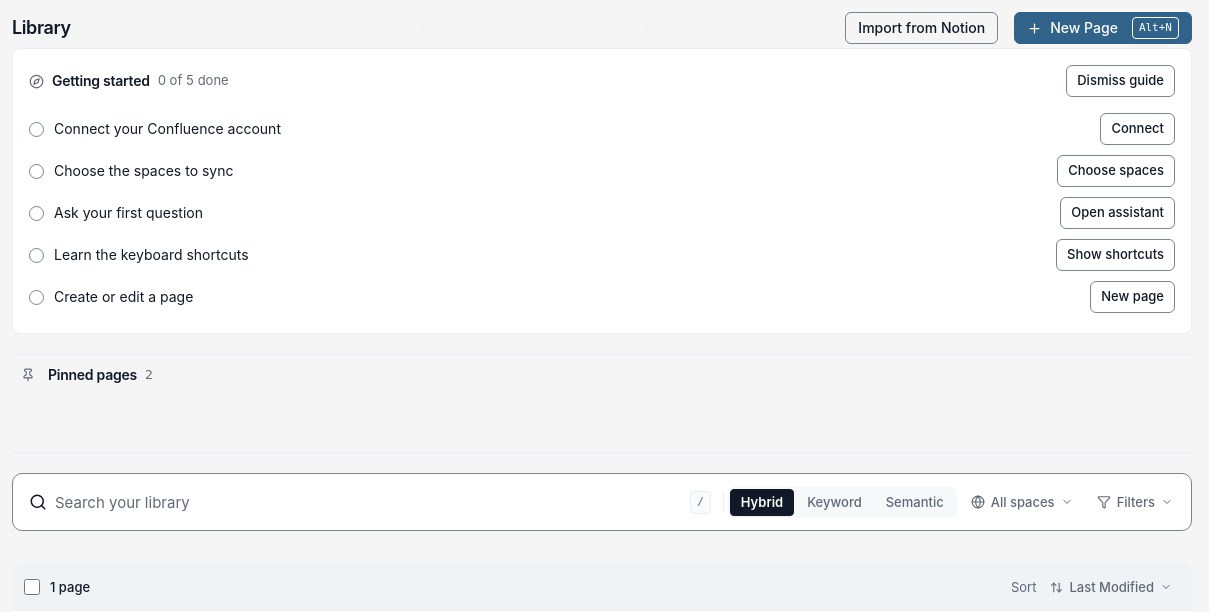
Test case: PagesPage › removes pinned content from the active-search path so results follow the query
The width and height of the screenshot is (1209, 612).
Check: the element with test id "pinned-articles-section" is shown, box [12, 354, 1192, 453]
Type "deployment" into the field with placeholder "Search your library" at (366, 502), box [55, 484, 676, 520]
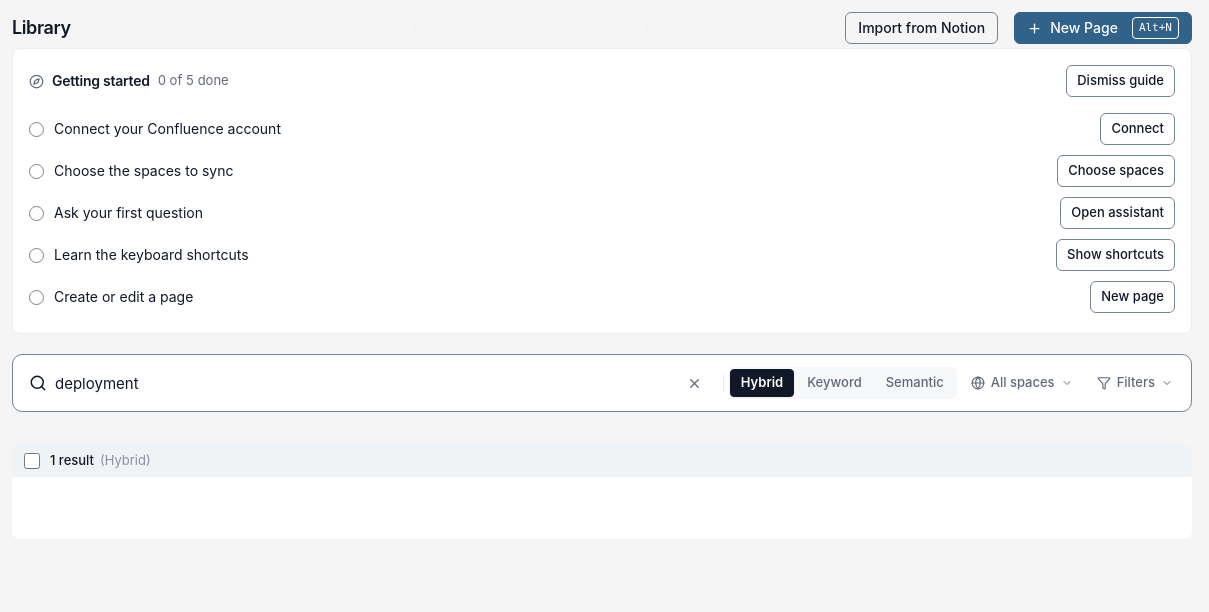
Check: the element with test id "pinned-articles-section" is gone
